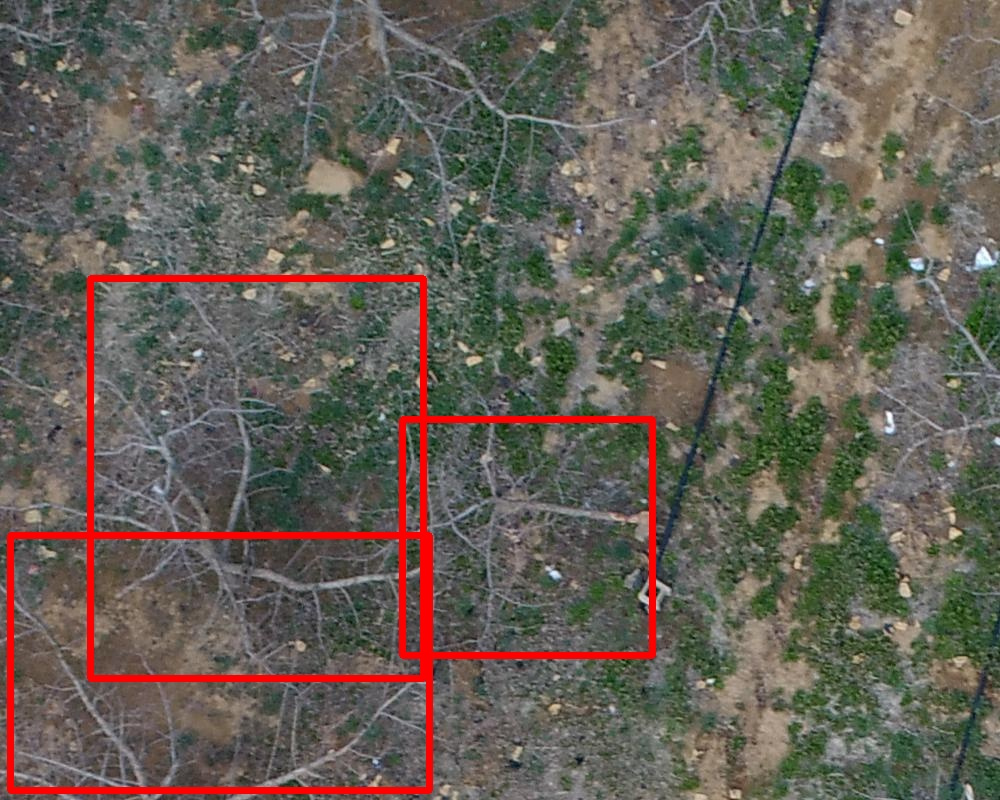apple: (90, 278, 423, 678), (10, 535, 429, 790), (402, 419, 652, 655)
